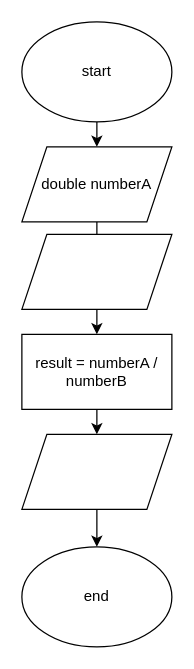
The diagram is 194 pixels wide and 669 high, and some of its shapes have lost their labels. Here are the shapes that lost their labels. From the top down, the centre of each, then its label:
the point at 96,271: double numberB
the point at 96,471: вывод result
